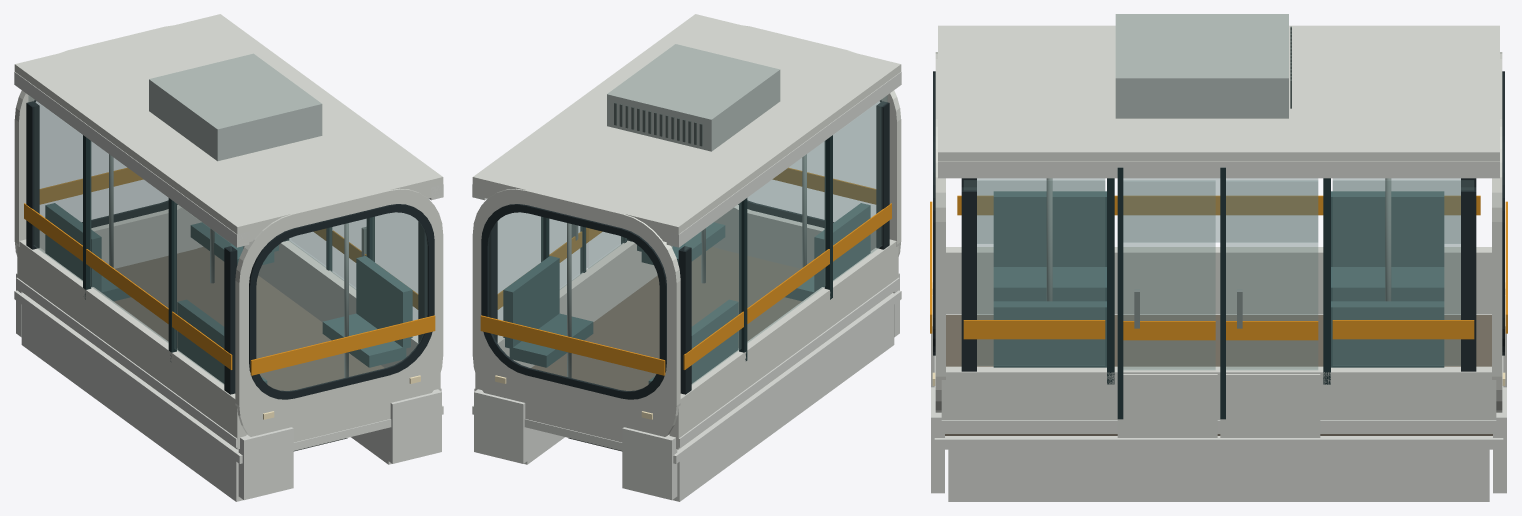
File: bitgaram-monorail.glb
3 views of the same model, side by side, from view 1: azimuth 30°, elevation 25°; view 2: azimuth 150°, elevation 25°; view 3: azimuth 270°, elevation 25° (orthographic). The views are drawn at different scales.
Visible parts, largest first — view 1: cab101_rounded_roof, cab101_curved_end_glazing.001, cab101_rounded_white_shell.001, cab_roof_aircon, cab_floor, cab_orange_sill, cab_side_glass.002, cab_lower_cheek, cab_side_glass.001, cab_side_glass, cab101_rounded_white_shell, cab101_dark_window_seal.001 (+26 smaller); view 2: cab101_rounded_roof, cab101_curved_end_glazing, cab101_rounded_white_shell, cab_roof_aircon, cab_floor, cab_orange_sill, cab_side_glass.002, cab_lower_cheek, cab_side_glass, cab_side_glass.001, cab101_rounded_white_shell.001, cab101_dark_window_seal (+26 smaller); view 3: cab101_rounded_roof, cab_lower_cheek.001, cab_side_glass.003, cab_side_glass.004, cab_orange_sill.001, cab_roof_aircon, cab_orange_sill, door_glass.001, door_glass, cab_side_glass.002, cab_floor, cab_window_header.001 (+31 smaller).
Boxes of the visible parts, x1,y1,x2,y2 form: cab101_rounded_roof: (14,14,443,244); cab101_curved_end_glazing.001: (257,213,427,390); cab101_rounded_white_shell.001: (235,188,443,442); cab_roof_aircon: (149,53,322,161); cab_floor: (114,247,384,434); cab_orange_sill: (17,239,246,449); cab_side_glass.002: (90,140,168,342); cab_lower_cheek: (21,305,243,501); cab_side_glass.001: (174,202,231,384); cab_side_glass: (28,95,82,281); cab101_rounded_white_shell: (14,25,201,268); cab101_dark_window_seal.001: (249,204,434,399); cab101_rounded_roof: (472,14,901,244); cab101_curved_end_glazing: (488,213,658,390); cab101_rounded_white_shell: (472,188,680,442); cab_roof_aircon: (607,44,780,151); cab_floor: (531,247,801,434); cab_orange_sill: (669,239,898,449); cab_side_glass.002: (747,140,825,342); cab_lower_cheek: (672,305,894,501); cab_side_glass: (684,202,741,384); cab_side_glass.001: (833,95,887,281); cab101_rounded_white_shell.001: (714,25,901,268); cab101_dark_window_seal: (481,204,666,399); cab101_rounded_roof: (938,25,1499,161); cab_lower_cheek.001: (948,449,1489,501); cab_side_glass.003: (1333,180,1473,365); cab_side_glass.004: (964,180,1104,365); cab_orange_sill.001: (941,366,1496,433); cab_roof_aircon: (1115,14,1288,118); cab_orange_sill: (946,247,1491,314); door_glass.001: (1123,180,1215,369); door_glass: (1226,180,1317,369); cab_side_glass.002: (1123,178,1317,242); cab_floor: (945,315,1492,435); cab_window_header.001: (938,161,1499,178).
Bounding box in the file's own units: 2.2 × 3.14 × 4.17.
